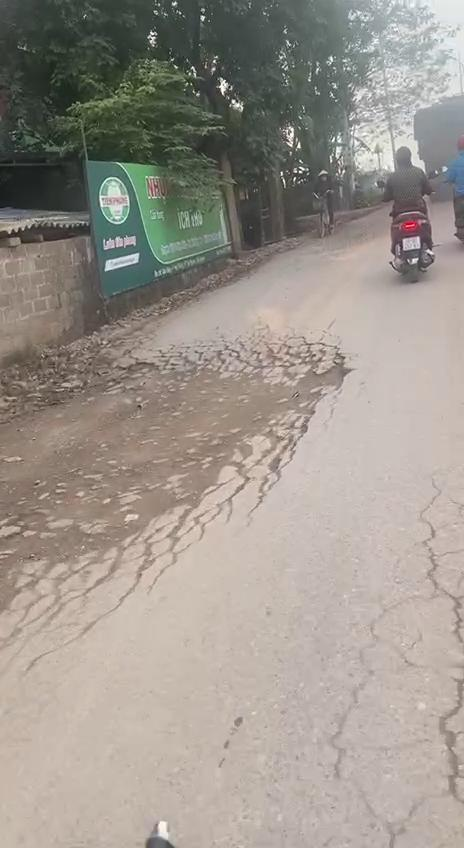pothole: (0, 348, 354, 548)
